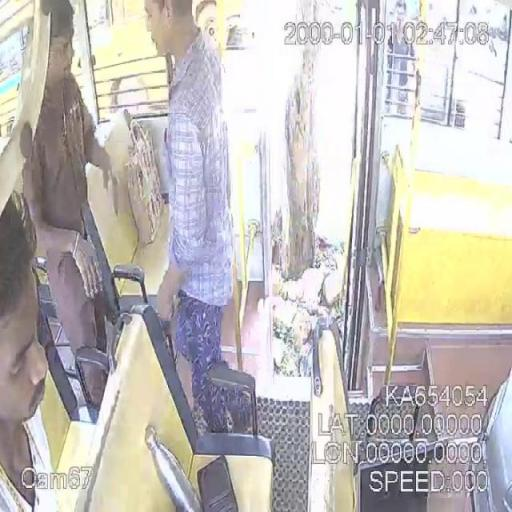persona: (20, 0, 122, 418), (142, 0, 236, 434), (0, 189, 58, 510)
